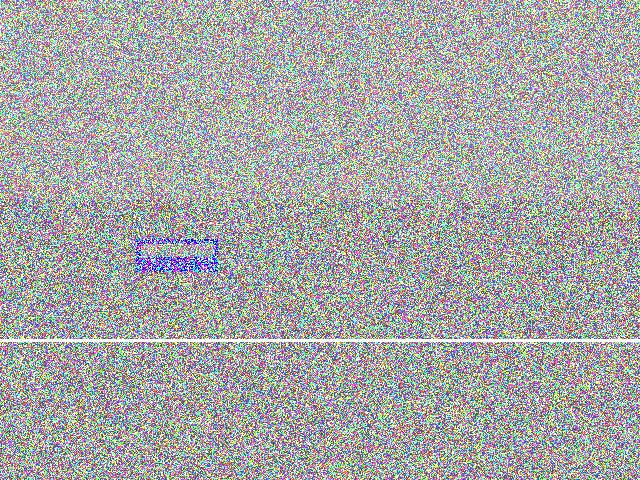motorcycle: (410, 178, 600, 290)
